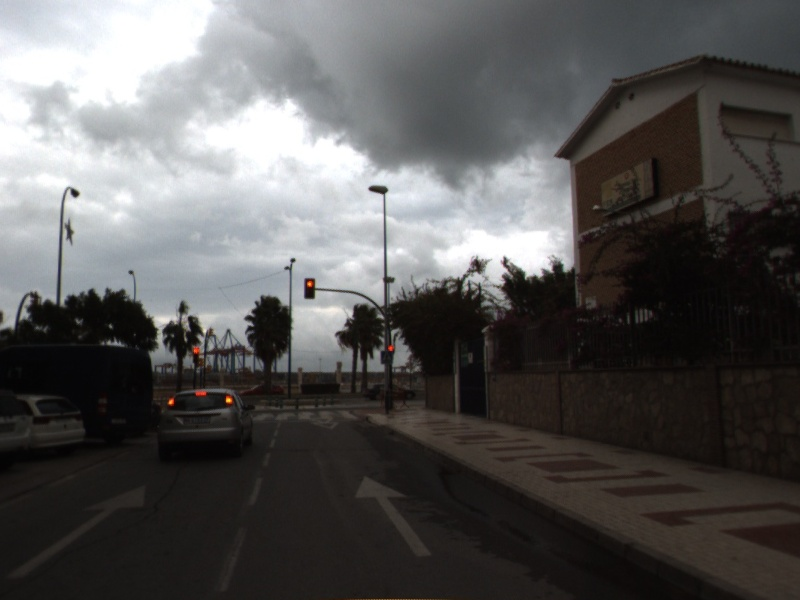STRAIGHT: (4, 480, 150, 582), (352, 473, 435, 560)
